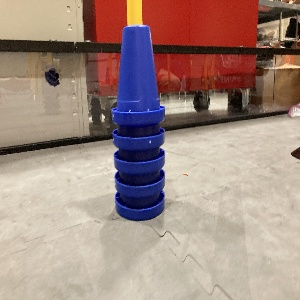Blue_5: (110, 24, 165, 222)
